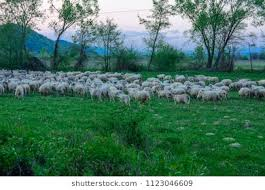sheep: (130, 89, 151, 104), (197, 90, 220, 103), (167, 91, 188, 105), (38, 80, 52, 97), (68, 83, 84, 97), (87, 86, 102, 100), (117, 91, 130, 106), (14, 83, 24, 100), (227, 81, 242, 92), (251, 86, 265, 97), (155, 88, 167, 100), (172, 74, 186, 82), (237, 87, 249, 96), (155, 73, 166, 81)
